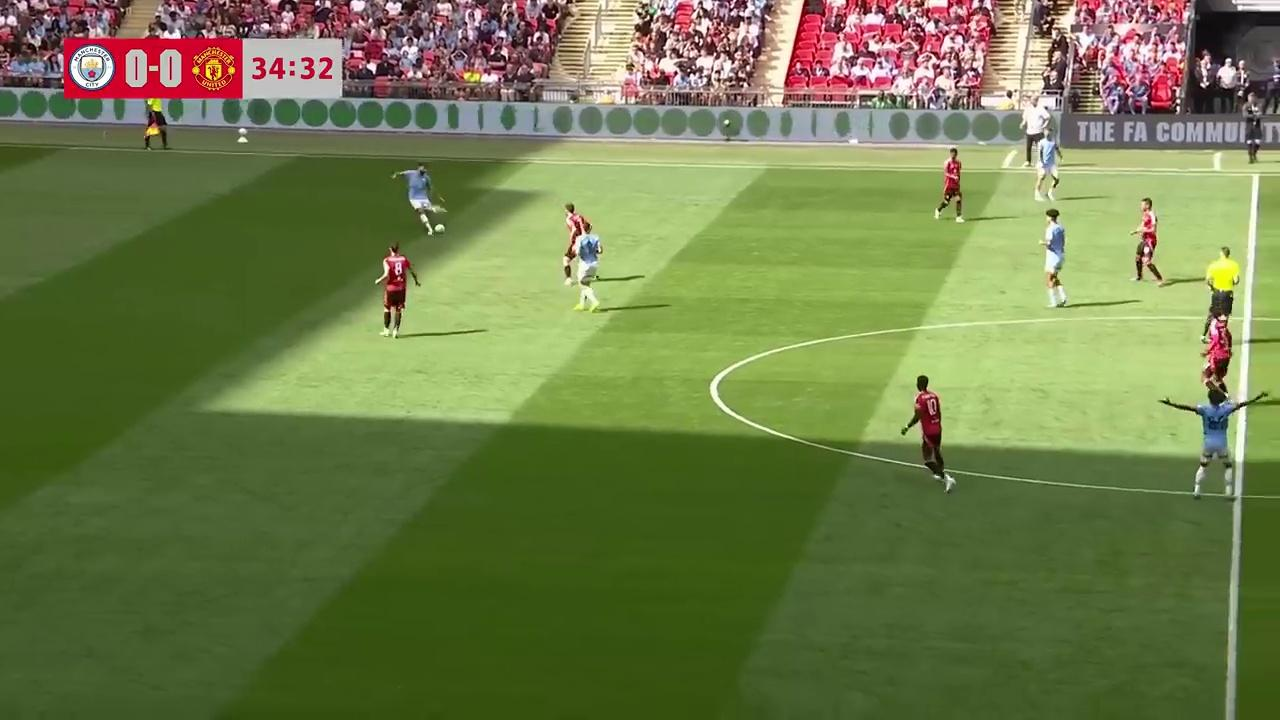ball: (434, 221, 446, 234)
player: (900, 374, 956, 486), (1191, 381, 1241, 500), (375, 242, 419, 337), (392, 162, 451, 231), (1198, 304, 1234, 404), (1130, 197, 1163, 286), (1039, 210, 1068, 307), (573, 223, 600, 312), (933, 148, 963, 223), (563, 203, 590, 281), (574, 224, 603, 290), (1034, 138, 1061, 200)
referee: (1205, 246, 1240, 324), (143, 99, 168, 151)
